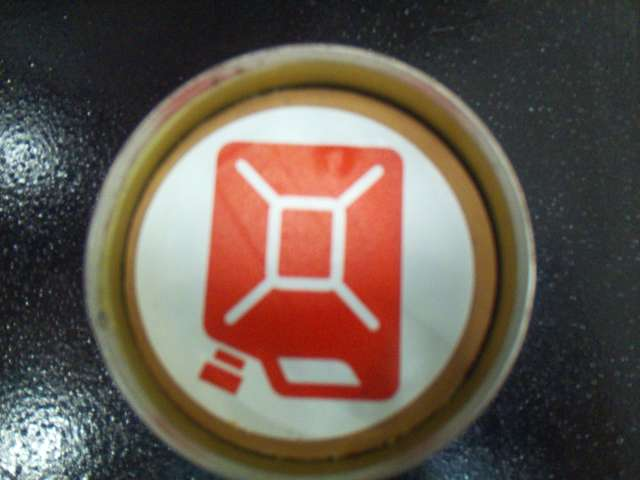gasoline: (190, 127, 413, 412)
